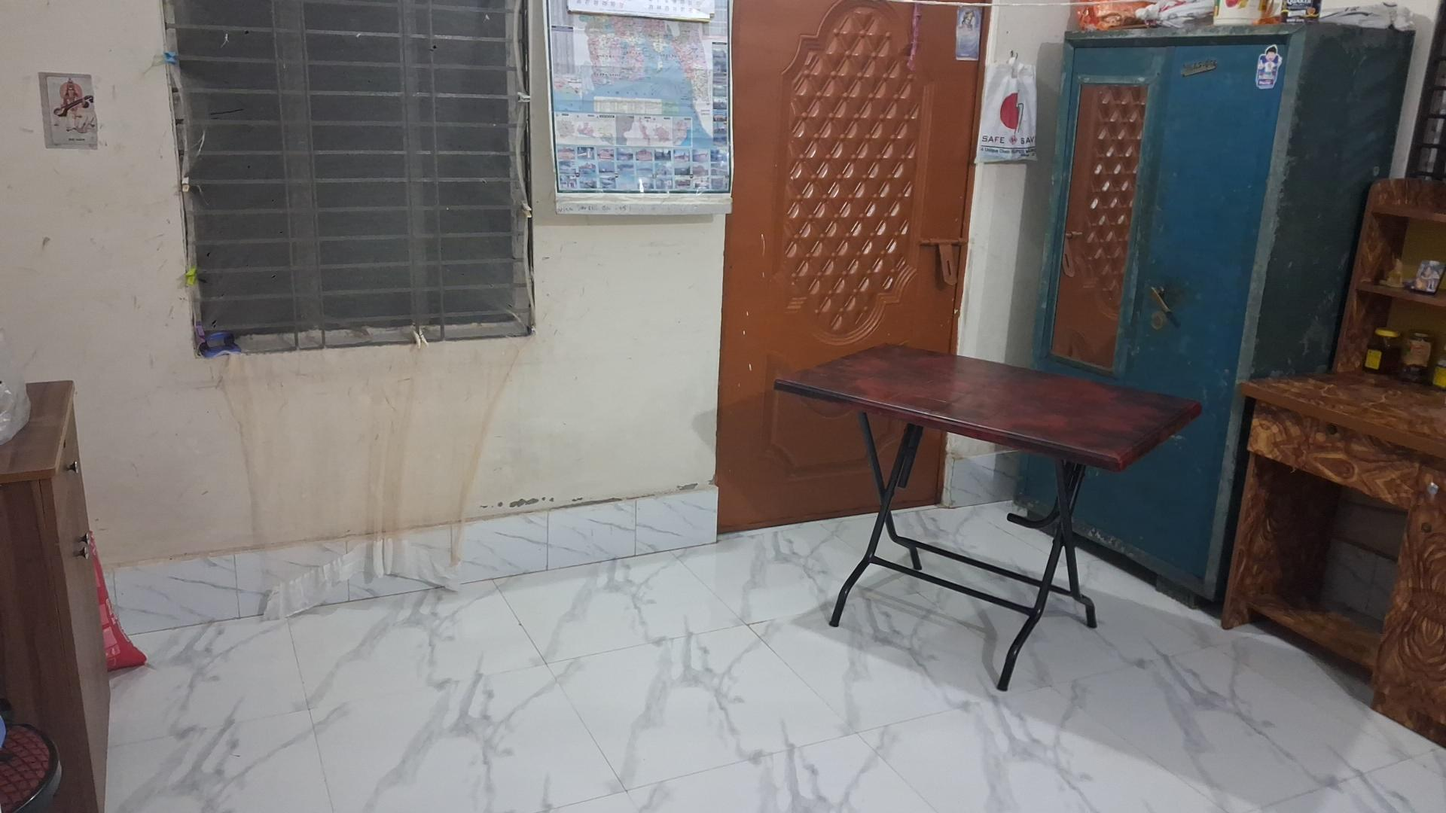Bag: (983, 57, 1041, 167)
Door: (722, 0, 999, 531)
Jar: (1400, 330, 1436, 383), (1367, 327, 1398, 375)
Photo: (31, 70, 100, 156), (956, 10, 980, 62), (1255, 46, 1281, 91)
Table: (764, 310, 1210, 708)
Window: (159, 8, 543, 346)
